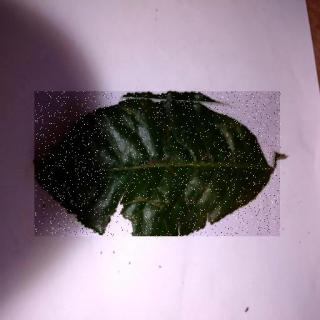Bird Eye Spot: (36, 93, 282, 238)
